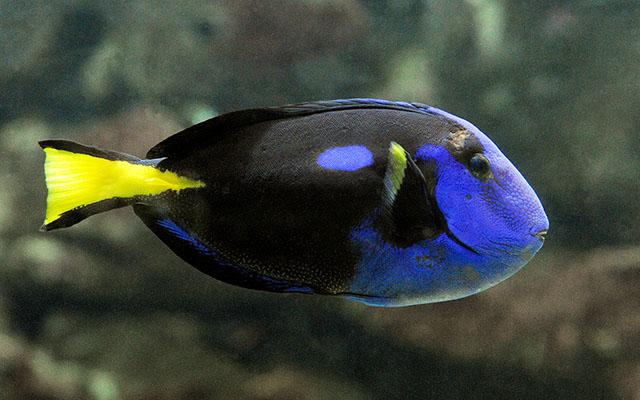Mulut: (512, 208, 572, 272)
Sirip Anal: (120, 194, 320, 306)
Sirip Dada: (362, 132, 442, 244)
Sirip Ekor: (22, 124, 182, 241)
Sirip Perut: (325, 284, 399, 320)
Sirip Punggung: (136, 91, 438, 177)
